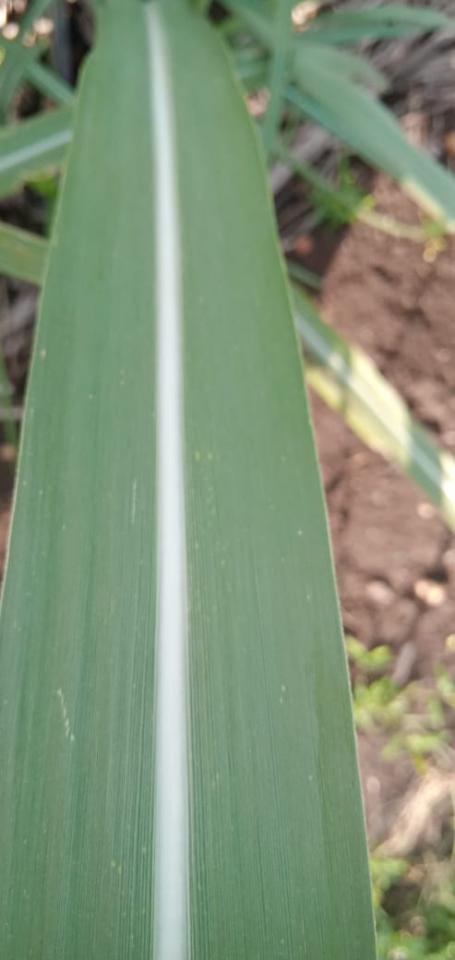Healthy: (156, 0, 375, 959), (1, 0, 158, 959)
